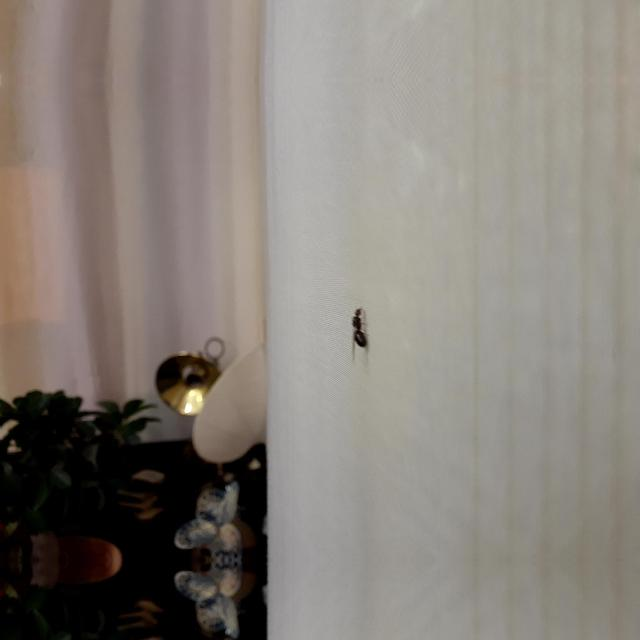Crematogaster: (342, 306, 373, 358)
